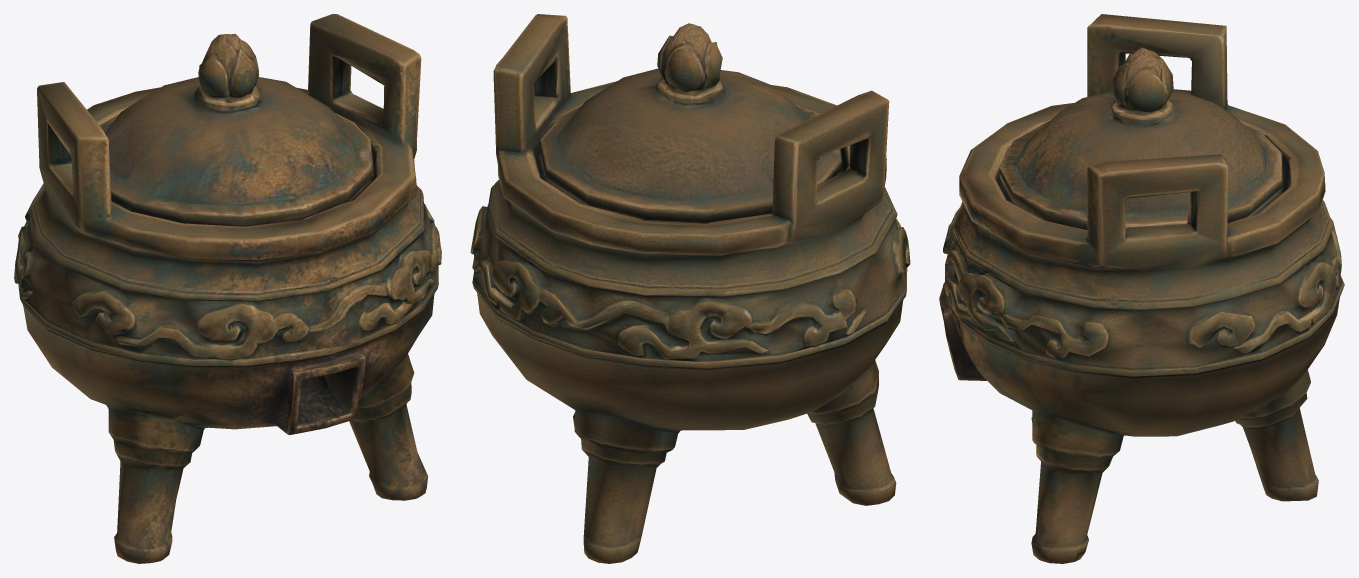
The model's file is prop_lo_dan.8de670d6be.glb.
3 renders of one model, left to right at view 1: azimuth 30°, elevation 25°; view 2: azimuth 150°, elevation 25°; view 3: azimuth 270°, elevation 25°, orthographic. The views are drawn at different scales.
Parts seen in each view (by area): view 1: prop_lo_dan; view 2: prop_lo_dan; view 3: prop_lo_dan.
Part boxes in pixels (x1=…): prop_lo_dan: x1=14, y1=14, x2=441, y2=563; prop_lo_dan: x1=470, y1=14, x2=910, y2=563; prop_lo_dan: x1=939, y1=14, x2=1344, y2=563.
Size of what is drawn, in the model's own units: 1.03 by 1.2 by 0.991.
Materials: 1 (1 with a texture image).
